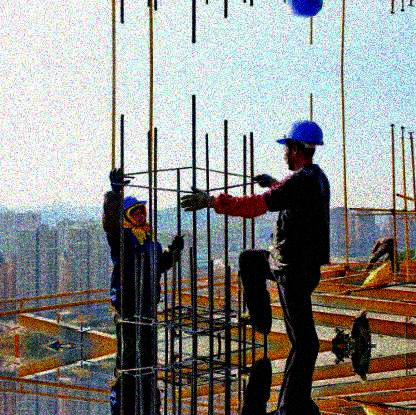helmet: (276, 120, 326, 170), (119, 192, 150, 230)
